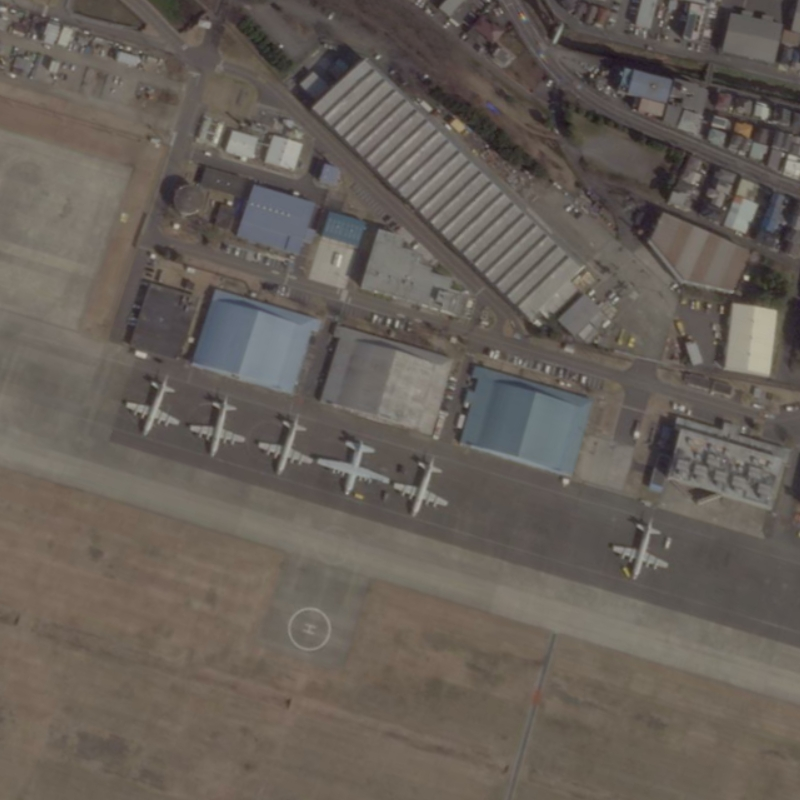A2: (316, 434, 391, 497)
A9: (183, 391, 248, 460), (119, 369, 182, 440), (609, 515, 672, 582), (390, 452, 452, 519), (256, 409, 315, 477)
